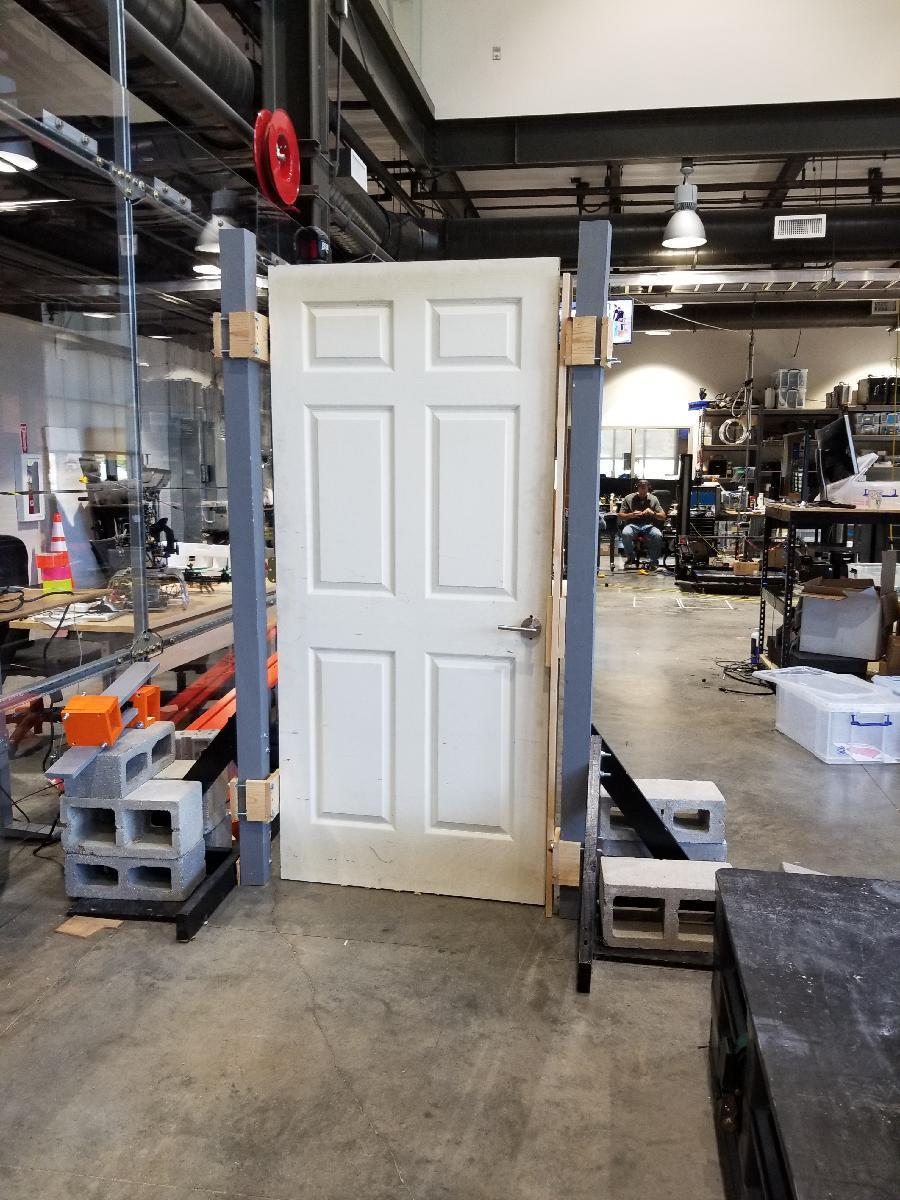door: (269, 249, 564, 898)
handle: (494, 613, 545, 638)
